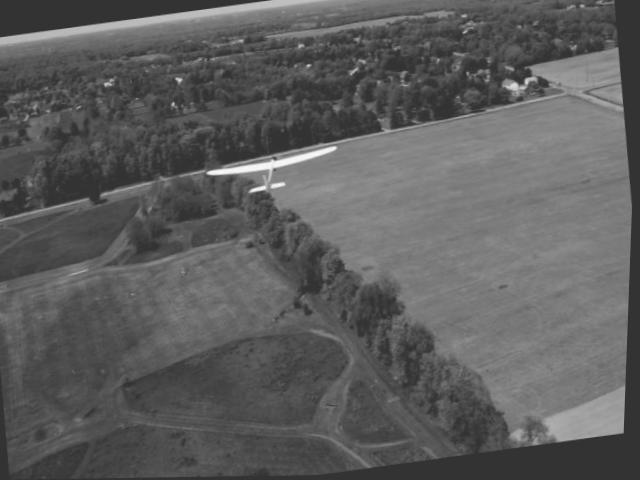hedef: (204, 138, 339, 208)
